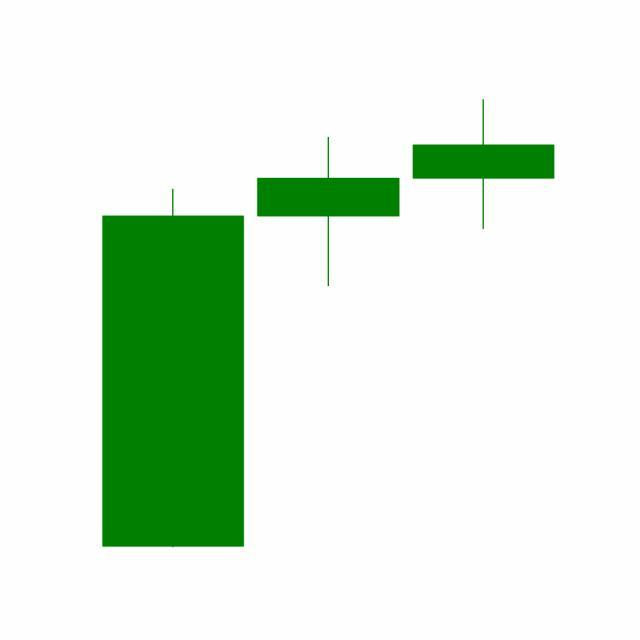Spinning Top: (406, 98, 562, 232)
